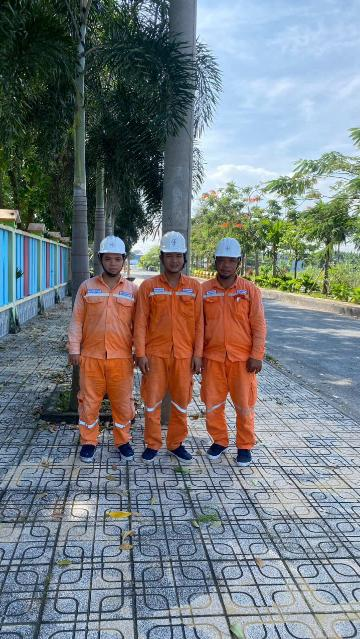helmet: (93, 232, 131, 262), (205, 233, 244, 261), (155, 226, 183, 260)
shoes: (73, 437, 102, 466), (139, 436, 161, 466), (116, 437, 139, 464), (201, 440, 229, 461), (233, 447, 255, 471), (167, 442, 190, 463)
